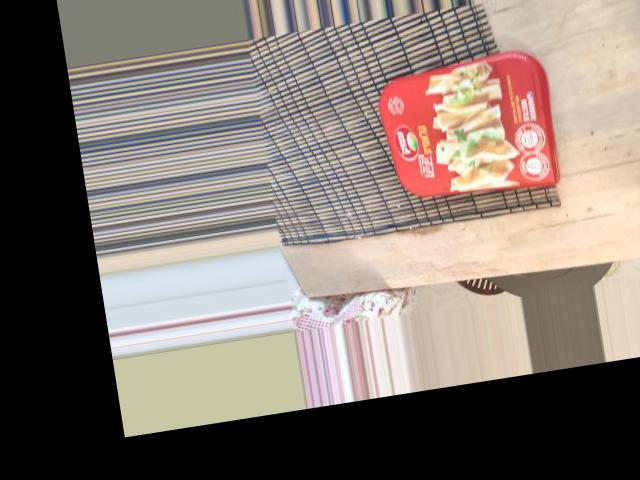cheese: (307, 5, 462, 204)
